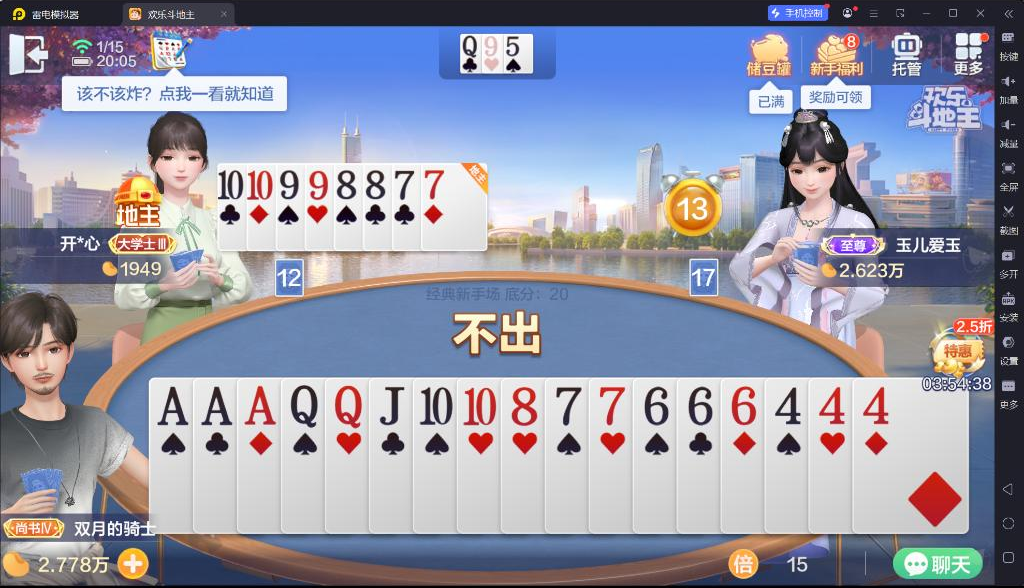A: (196, 384, 234, 428), (242, 384, 278, 430), (154, 384, 190, 427)
J: (376, 384, 407, 426)
Q: (329, 384, 363, 430), (288, 383, 318, 429), (461, 35, 479, 59)
eight: (508, 385, 538, 427), (364, 169, 388, 201), (335, 169, 358, 201)
five: (505, 35, 521, 57)
four: (771, 384, 804, 427), (815, 384, 847, 426), (861, 385, 893, 426)
nine: (277, 166, 302, 201), (308, 169, 330, 201), (483, 35, 499, 58)
seven: (596, 384, 627, 427), (555, 386, 583, 429), (394, 168, 418, 202), (422, 167, 446, 201)
six: (726, 384, 760, 427), (682, 384, 714, 427), (641, 384, 671, 427)
ten: (418, 384, 456, 427), (460, 385, 498, 427), (216, 167, 243, 201), (247, 167, 273, 201)
